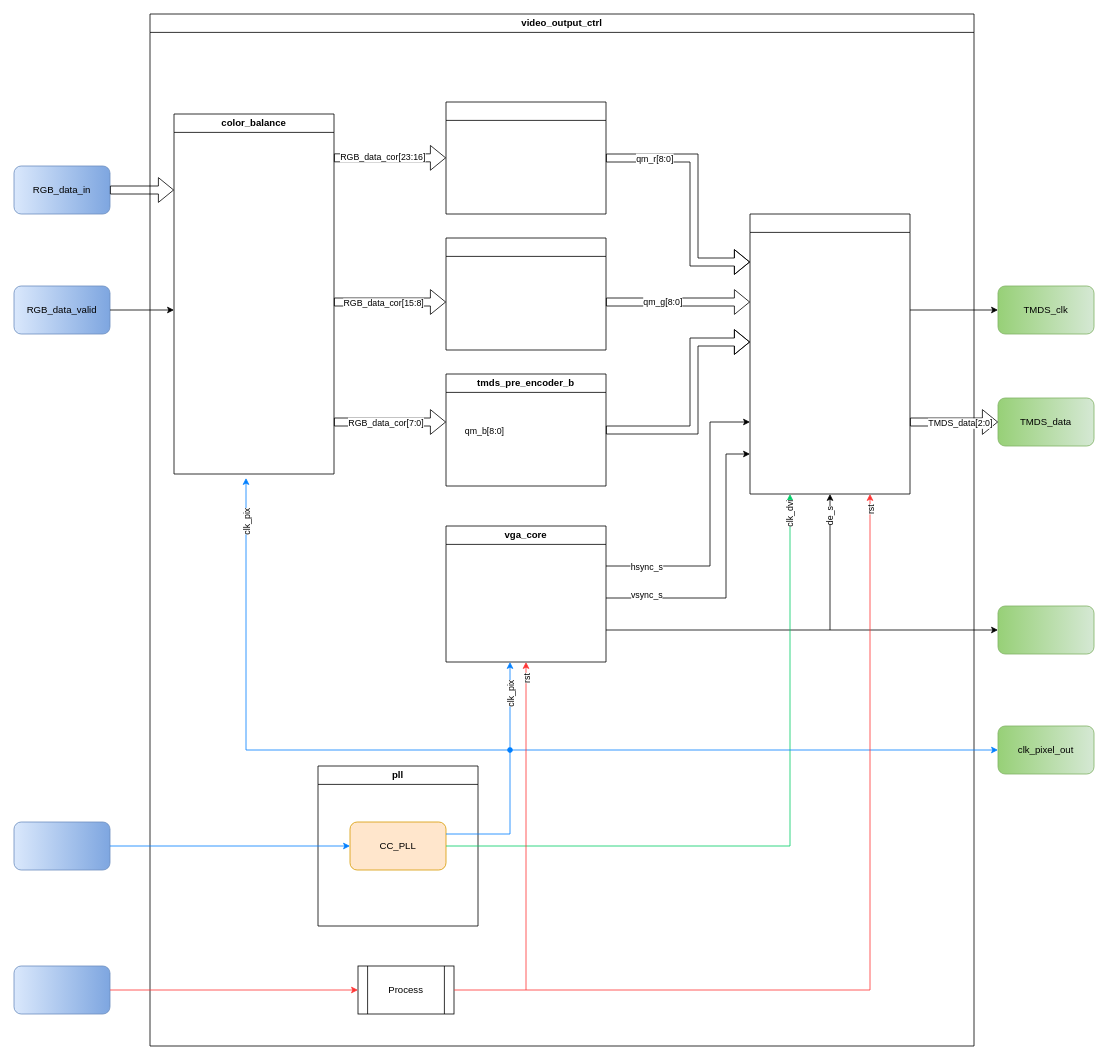
Some shapes in this 1108 by 1060 pixel diagram are drawn without their labels. Here are the shapes that lost their labels. From the top down, the centre of each, then its label:
At [525,157]: "tmds_pre_encoder_r".
At [525,293]: "tmds_pre_encoder_g".
At [829,353]: "dvi_core".
At [1045,629]: "pixel_request".
At [61,845]: "clk_ref".
At [61,989]: "RST_N".
